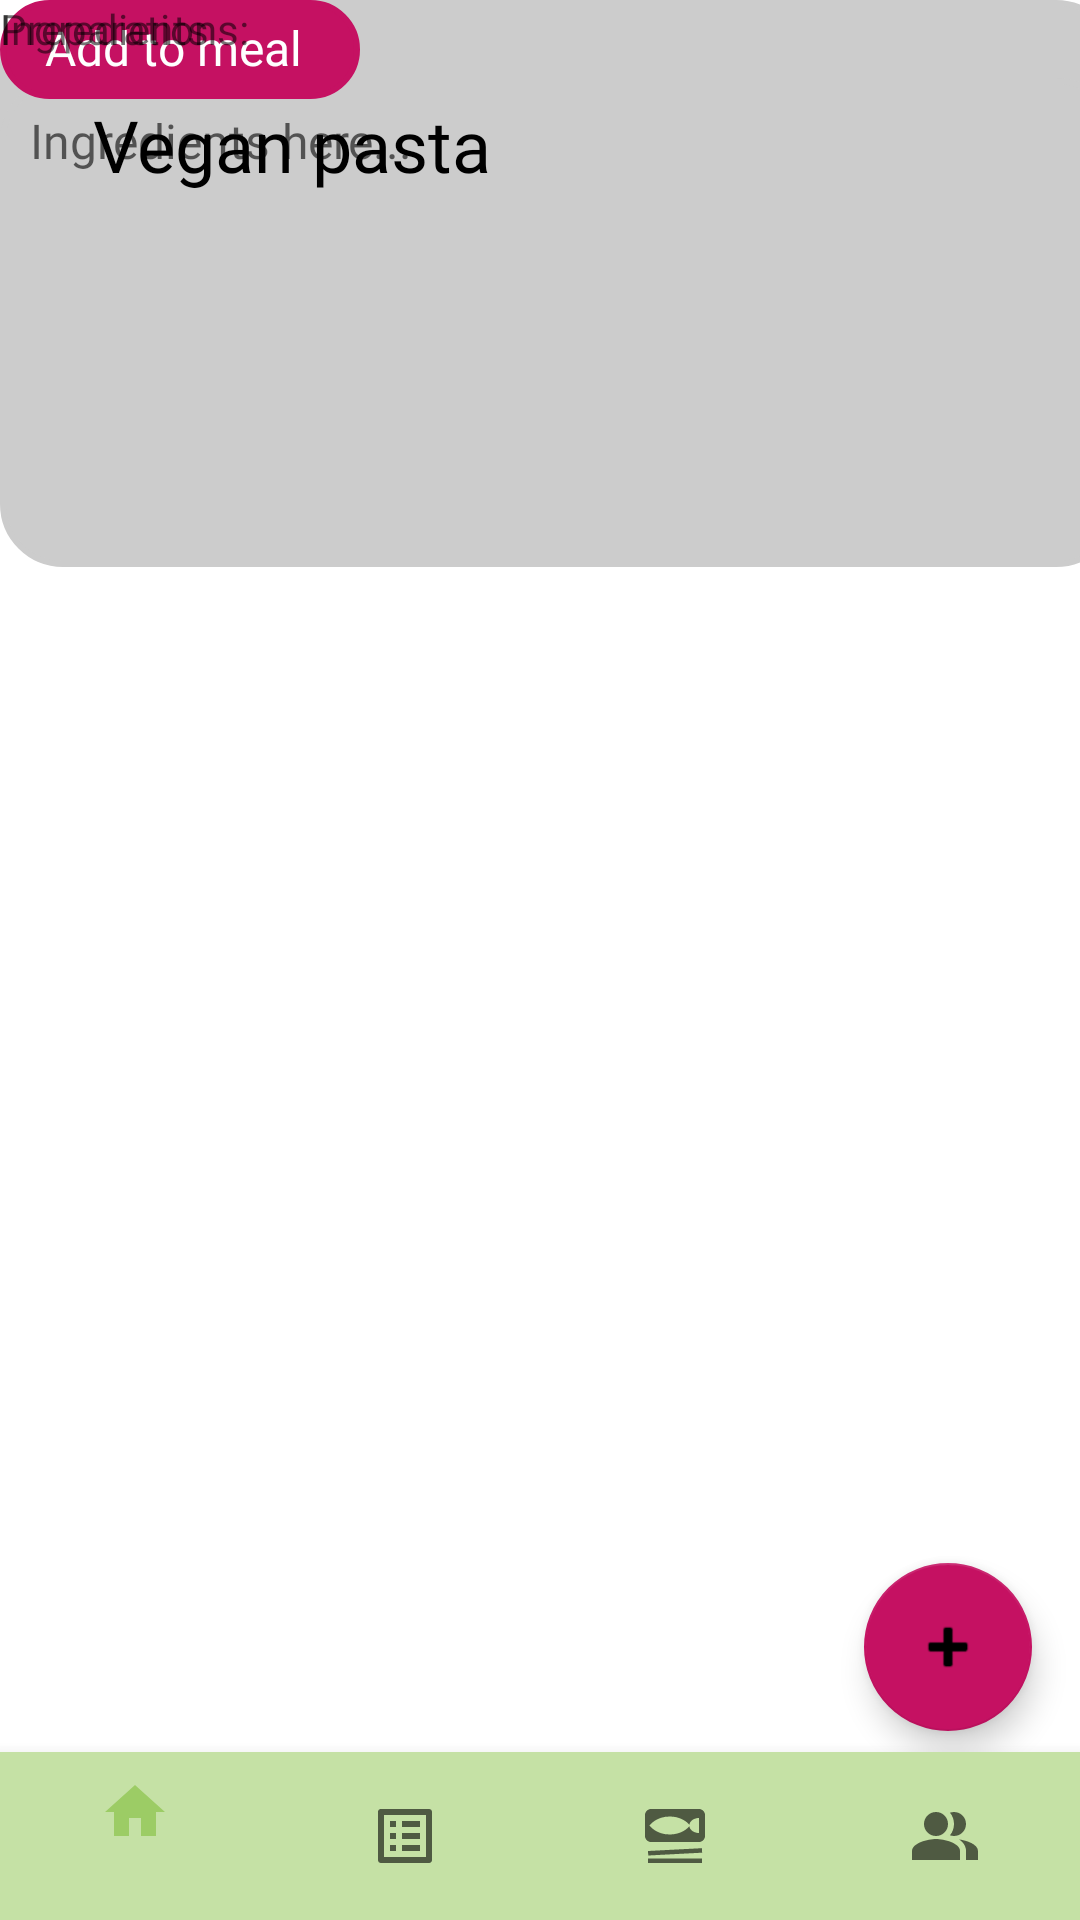

Icons on this 1080 x 1920 Android screen, each with the point to tap as (x,y):
add: (948,1647)
